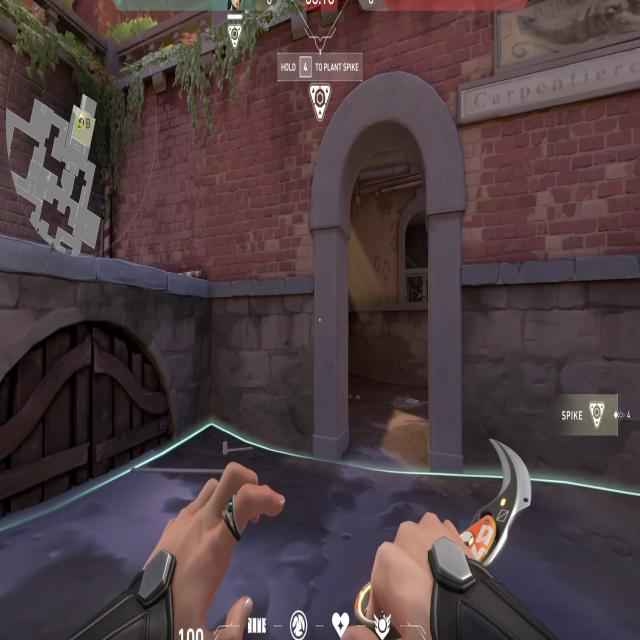B_Boathouse: (291, 55, 479, 481)
